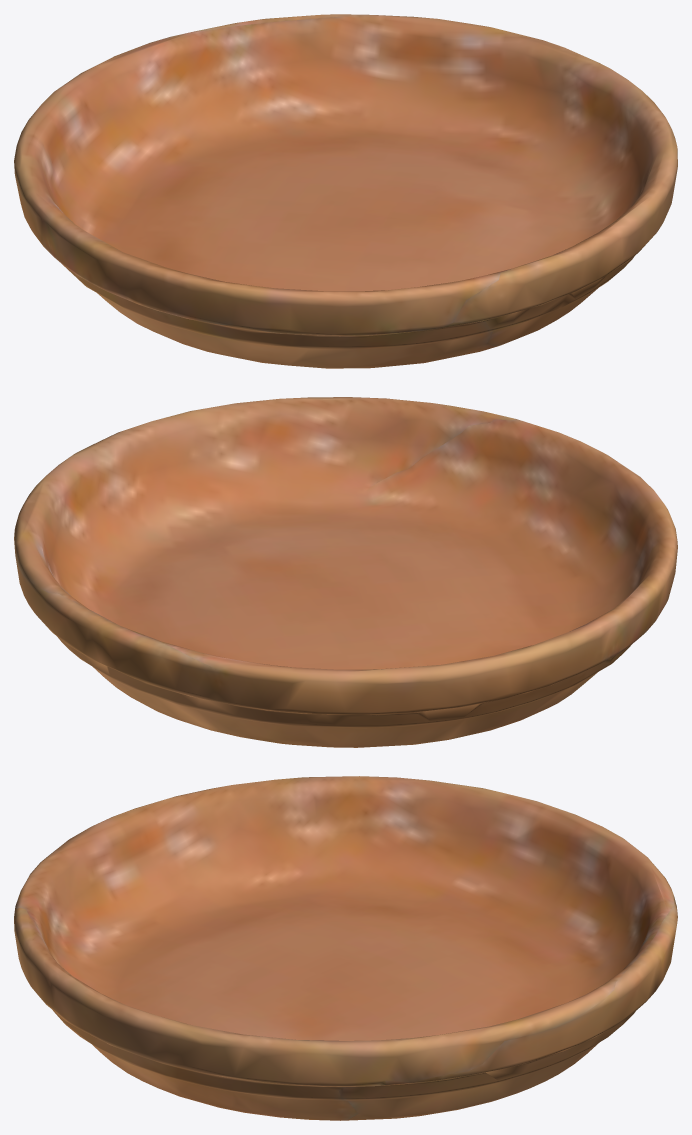
The model's file is Cole_Hardware_Saucer_Glazed_6-high.glb.
3 views of the same model, one above another, from view 1: azimuth 30°, elevation 25°; view 2: azimuth 150°, elevation 25°; view 3: azimuth 270°, elevation 25° (orthographic).
Visible parts, largest first — view 1: Cole_Hardware_Saucer_Glazed_6; view 2: Cole_Hardware_Saucer_Glazed_6; view 3: Cole_Hardware_Saucer_Glazed_6.
Part boxes in pixels (x1,y1,x2,y2): Cole_Hardware_Saucer_Glazed_6: [14, 14, 677, 368]; Cole_Hardware_Saucer_Glazed_6: [14, 397, 677, 747]; Cole_Hardware_Saucer_Glazed_6: [14, 776, 677, 1120].
Bounding box in the file's own units: 0.1599 × 0.0299 × 0.1597.
Materials: 1 (1 with a texture image).
